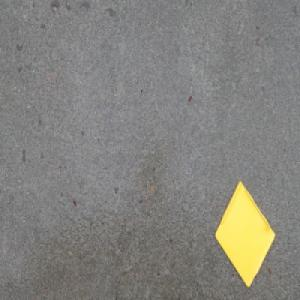PlasticPart: (213, 179, 276, 289)
